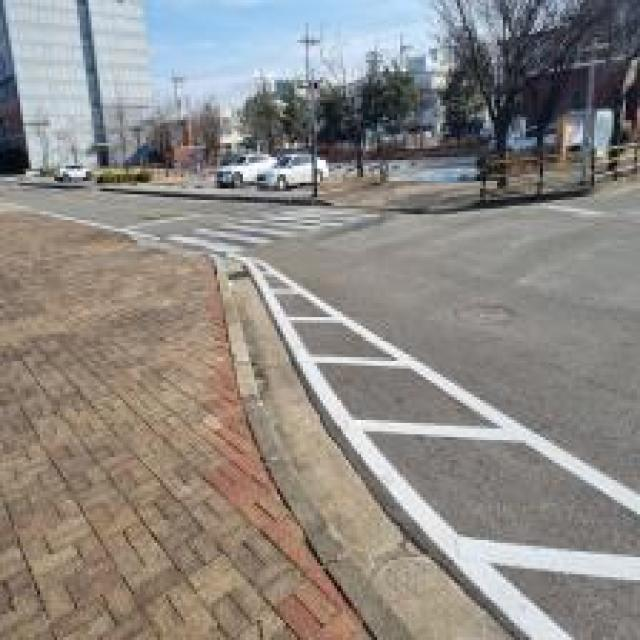walk-crossing: (164, 189, 384, 234)
